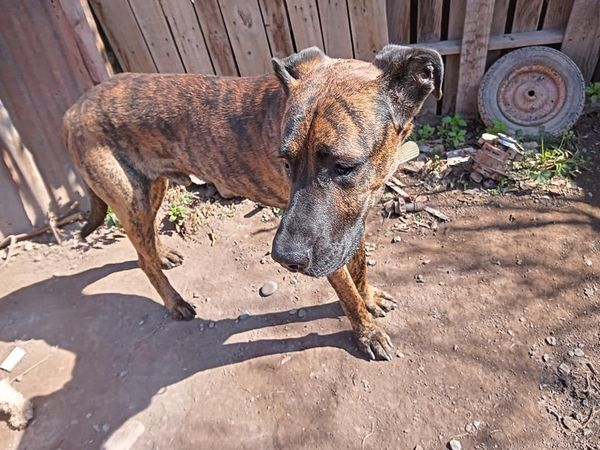dog: (58, 32, 454, 360)
